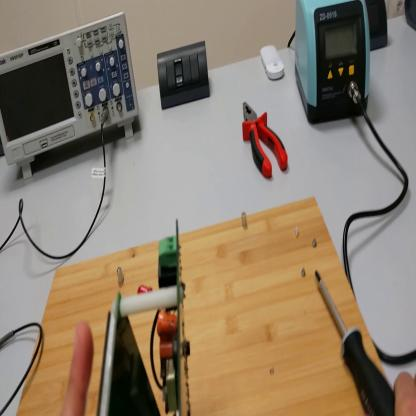hand: (64, 321, 94, 416), (393, 370, 416, 413)
low voltage board: (97, 229, 191, 415)
oscilloscope: (2, 13, 144, 179)
pliers: (241, 100, 291, 181)
screwdriver-: (314, 274, 396, 415)
socket: (367, 1, 391, 51), (406, 2, 416, 31)
welder station: (294, 3, 374, 127)
working area: (17, 191, 394, 414)
